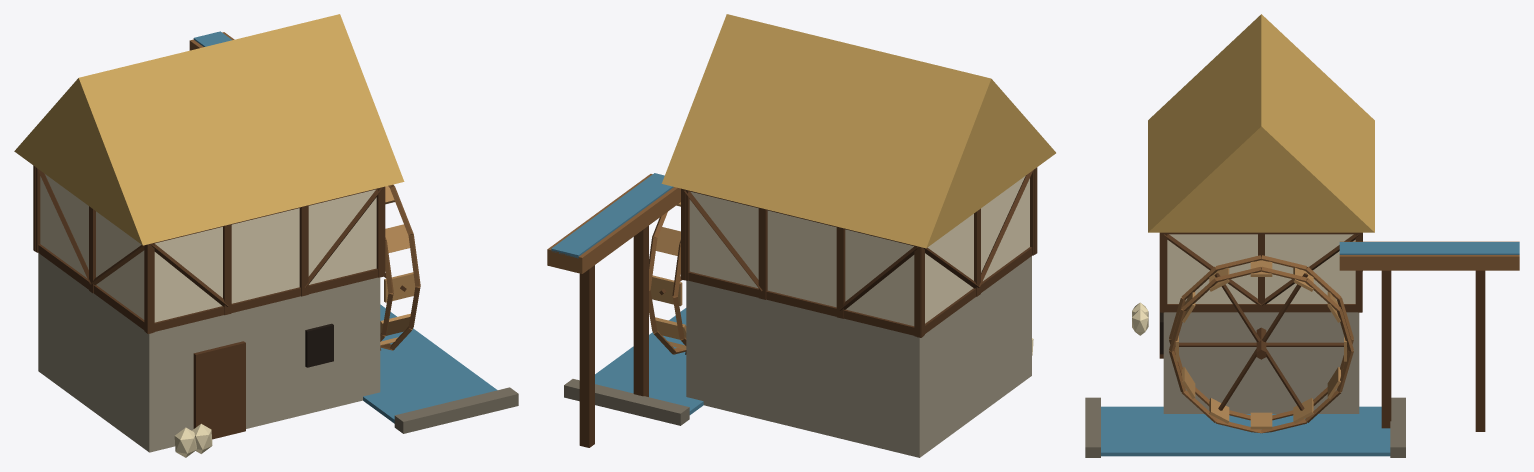
The model's file is building_mill.glb.
3 views of the same model, side by side, from view 1: azimuth 30°, elevation 25°; view 2: azimuth 150°, elevation 25°; view 3: azimuth 270°, elevation 25° (orthographic). The views are drawn at different scales.
Visible parts, largest first — view 1: building_mill; view 2: building_mill; view 3: building_mill.
Part boxes in pixels (x1=…): building_mill: x1=14, y1=14, x2=518, y2=457; building_mill: x1=547, y1=14, x2=1055, y2=457; building_mill: x1=1085, y1=14, x2=1519, y2=457.
Size of the model in its own units: 8.85 by 8.43 by 11.1.
